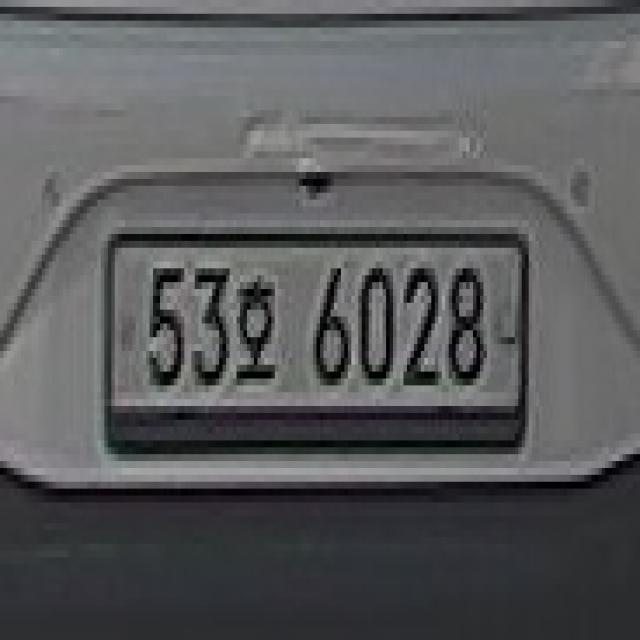0: (348, 241, 396, 406)
2: (396, 248, 448, 406)
3: (191, 248, 233, 399)
5: (132, 227, 191, 392)
6: (306, 255, 355, 406)
8: (442, 248, 490, 413)
ho: (226, 255, 285, 399)
license_plate: (101, 220, 539, 468)
